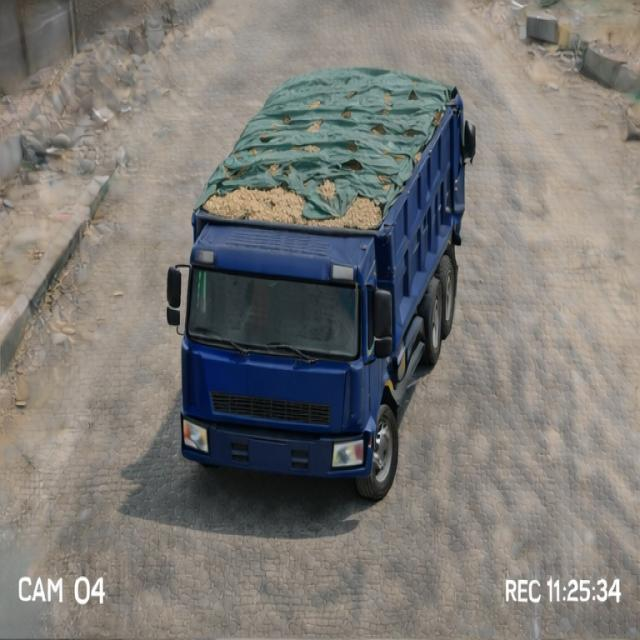trailer: (188, 72, 464, 229)
truck: (164, 65, 495, 478)
